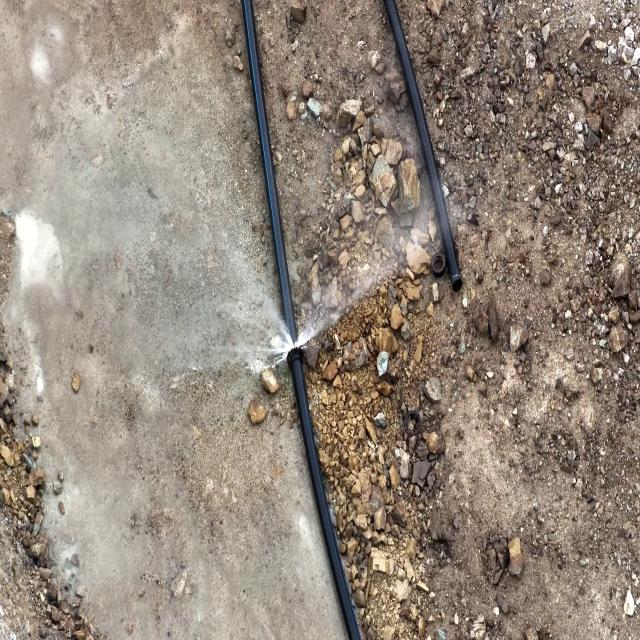leak: (223, 227, 441, 380)
